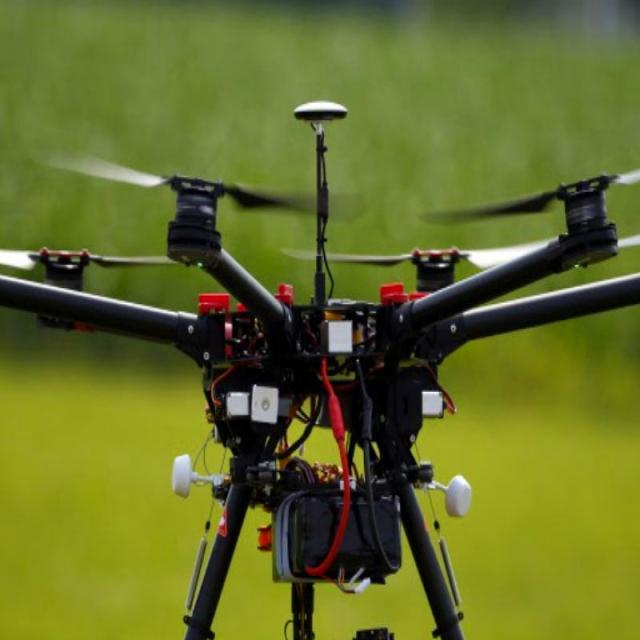drone: (0, 105, 640, 535)
